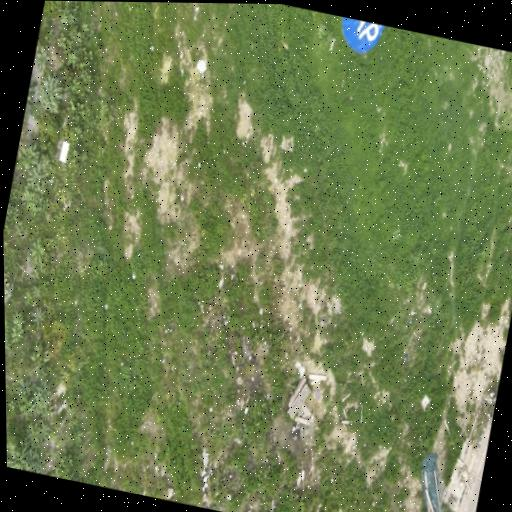uap: (342, 17, 385, 53)
